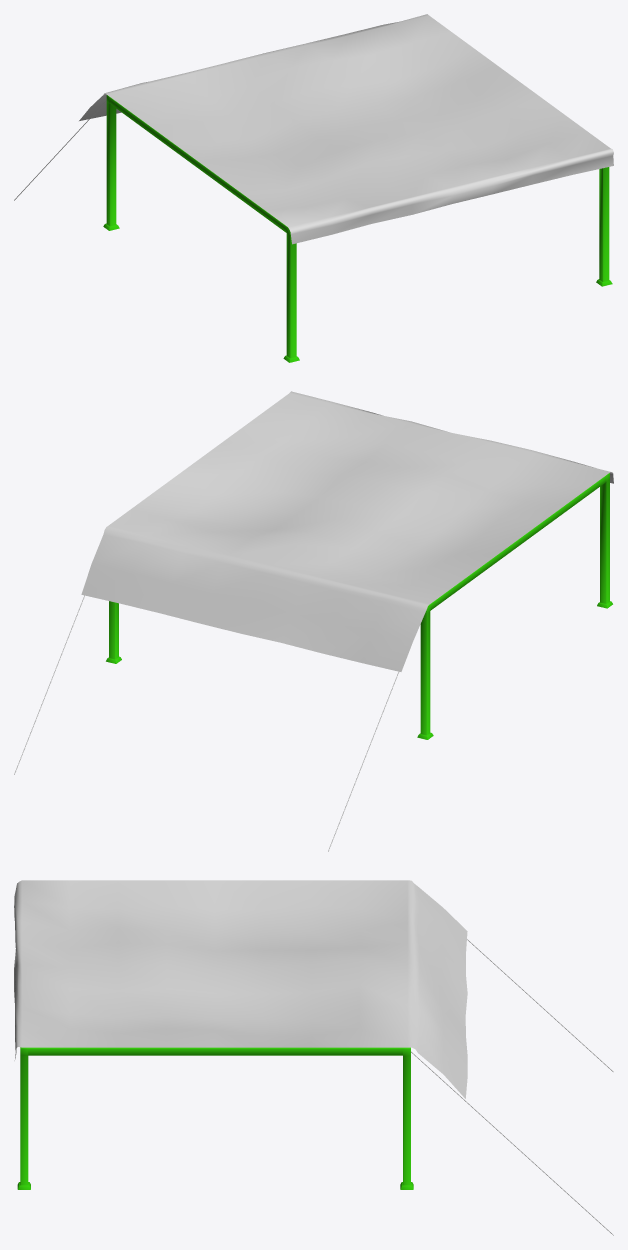
File: CamoNet.fbx
3 views of the same model, one above another, from view 1: azimuth 30°, elevation 25°; view 2: azimuth 150°, elevation 25°; view 3: azimuth 270°, elevation 25° (orthographic). The views are drawn at different scales.
Parts seen in each view (by area): view 1: Net, Supports; view 2: Net, Supports; view 3: Net, Supports.
Part boxes in pixels (x1,y1,x2,y2): Net: [14, 14, 613, 244]; Supports: [103, 95, 612, 362]; Net: [14, 391, 613, 851]; Supports: [106, 473, 612, 739]; Net: [14, 880, 613, 1235]; Supports: [17, 1047, 413, 1189].
Bounding box in the file's own units: 9.83 × 5.29 × 14.87.
